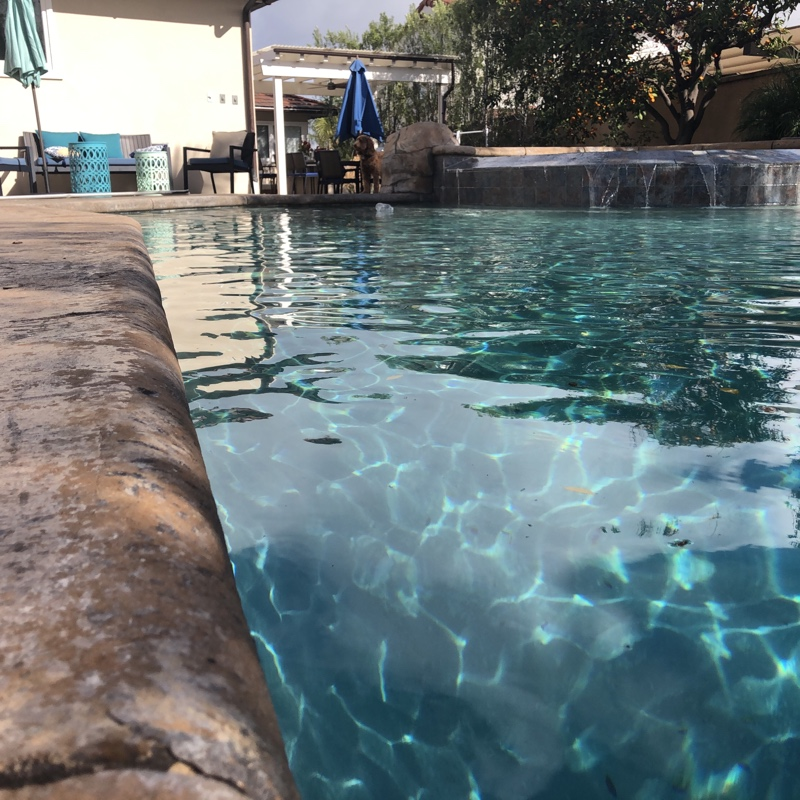Plastic Bottle: (369, 200, 396, 221)
